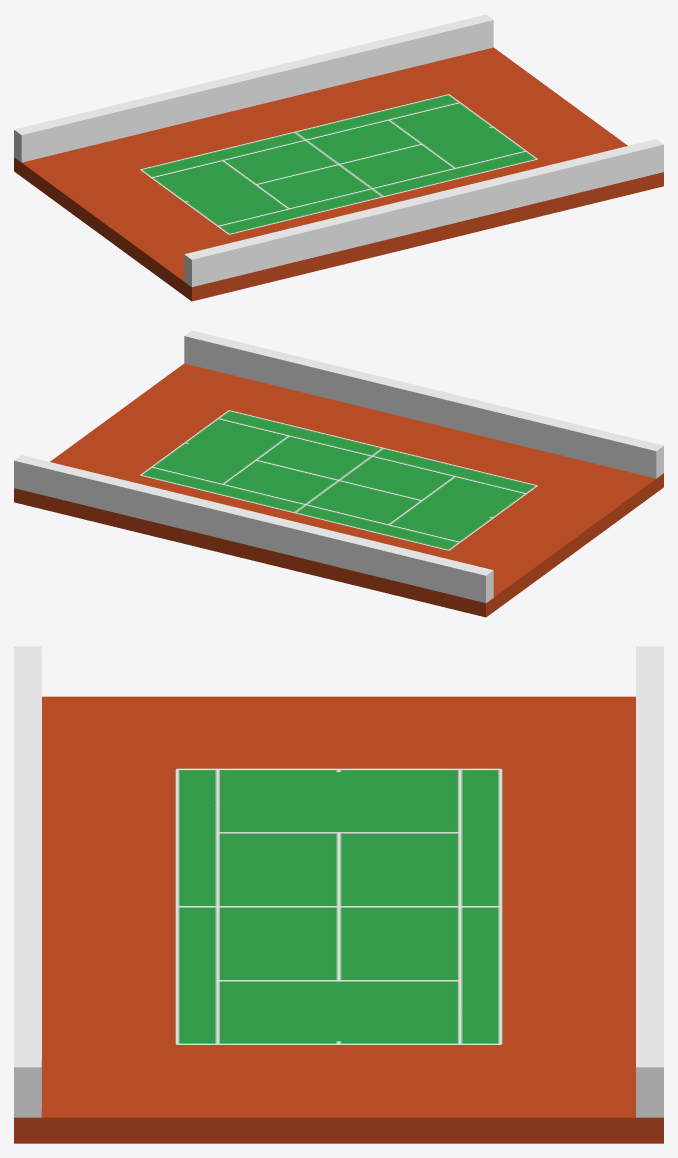
File: quadra.obj
The picture shows the model from 3 angles, top to bottom: view 1: azimuth 30°, elevation 25°; view 2: azimuth 150°, elevation 25°; view 3: azimuth 270°, elevation 25°; orthographic projection. The views are drawn at different scales.
Parts seen in each view (by area): view 1: Plano.001, Plano; view 2: Plano.001, Plano; view 3: Plano.001, Plano.
Part boxes in pixels (bbox=[...]): Plano.001: bbox=[14, 14, 663, 301]; Plano: bbox=[140, 94, 537, 234]; Plano.001: bbox=[14, 330, 663, 617]; Plano: bbox=[140, 410, 537, 550]; Plano.001: bbox=[14, 646, 663, 1143]; Plano: bbox=[175, 768, 502, 1044].
Bounding box in the file's own units: 33.54 × 2.83 × 21.88.
3 materials, 1 textured.
